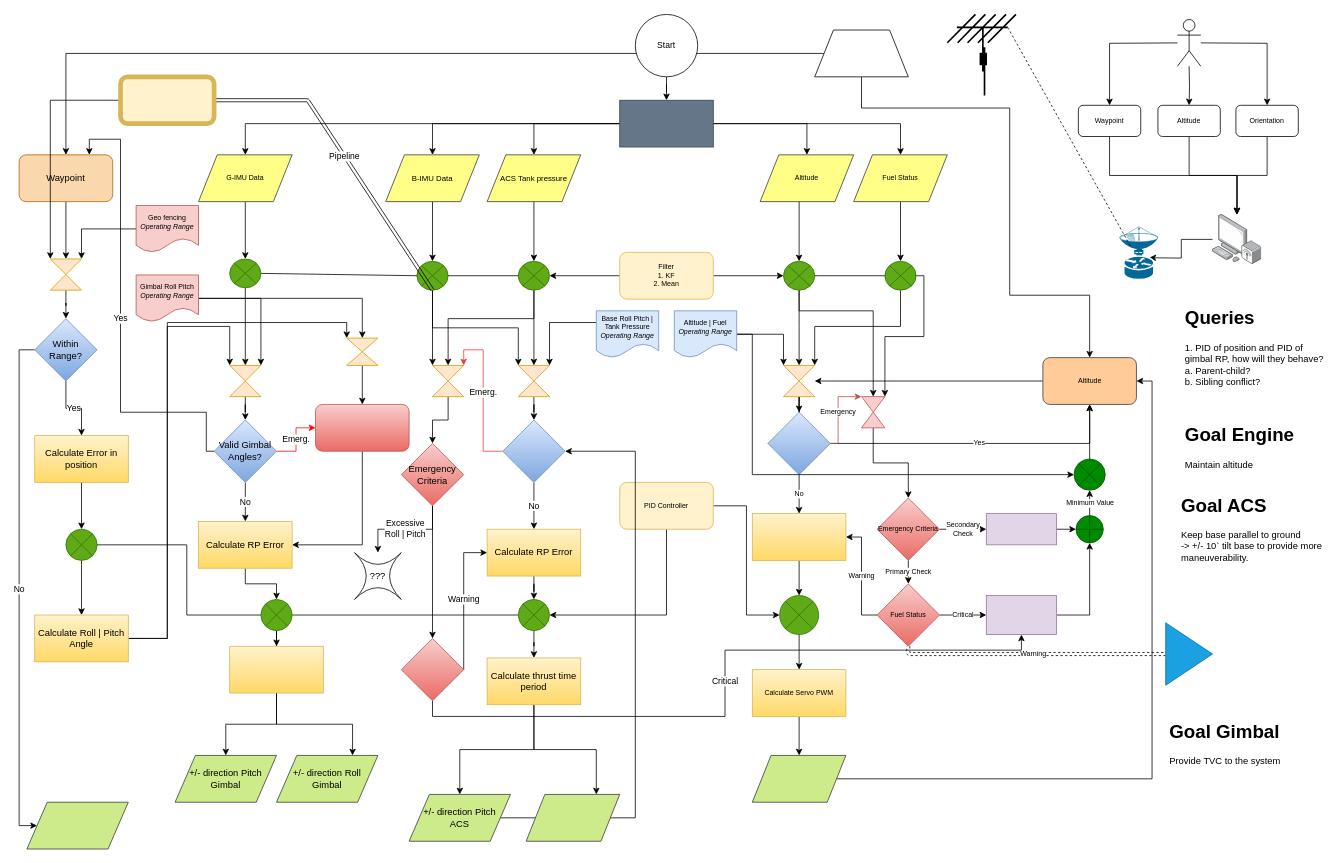
Some shapes in this 1343 by 863 pixel diagram are drawn without their labels. Each missing label, with the centre of its shape:
+/- direction Roll ACS: the point at 572,817
Altitude valid?: the point at 798,443
Calculate Error: the point at 799,536
Calculate Linear actuator direction: the point at 276,669
Clamp: the point at 362,427
Fuel Warning: the point at 1189,653
Is Base Parallel?: the point at 533,450
NO Action: the point at 77,825
Relative position and orientation estimation: the point at 167,100
Sensors: the point at 666,123
Set to landing Altitude: the point at 1021,615
Set to Max Altitude: the point at 1021,529
System Input: the point at 861,53
Tank Pressure: the point at 432,669
Update Thrust: the point at 799,778
User: the point at 1189,42
